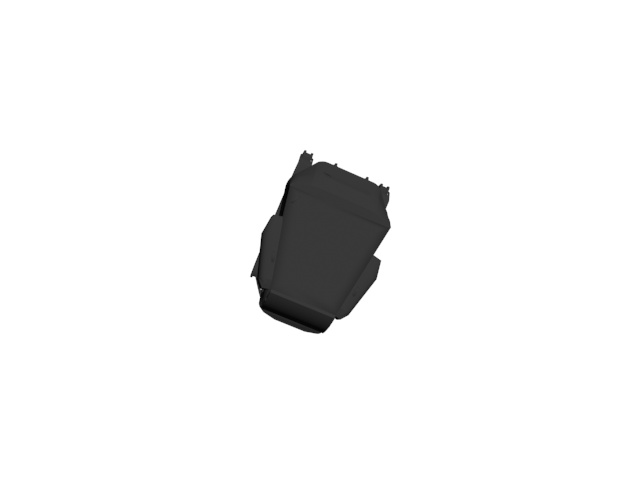back_pack: (249, 145, 392, 336)
